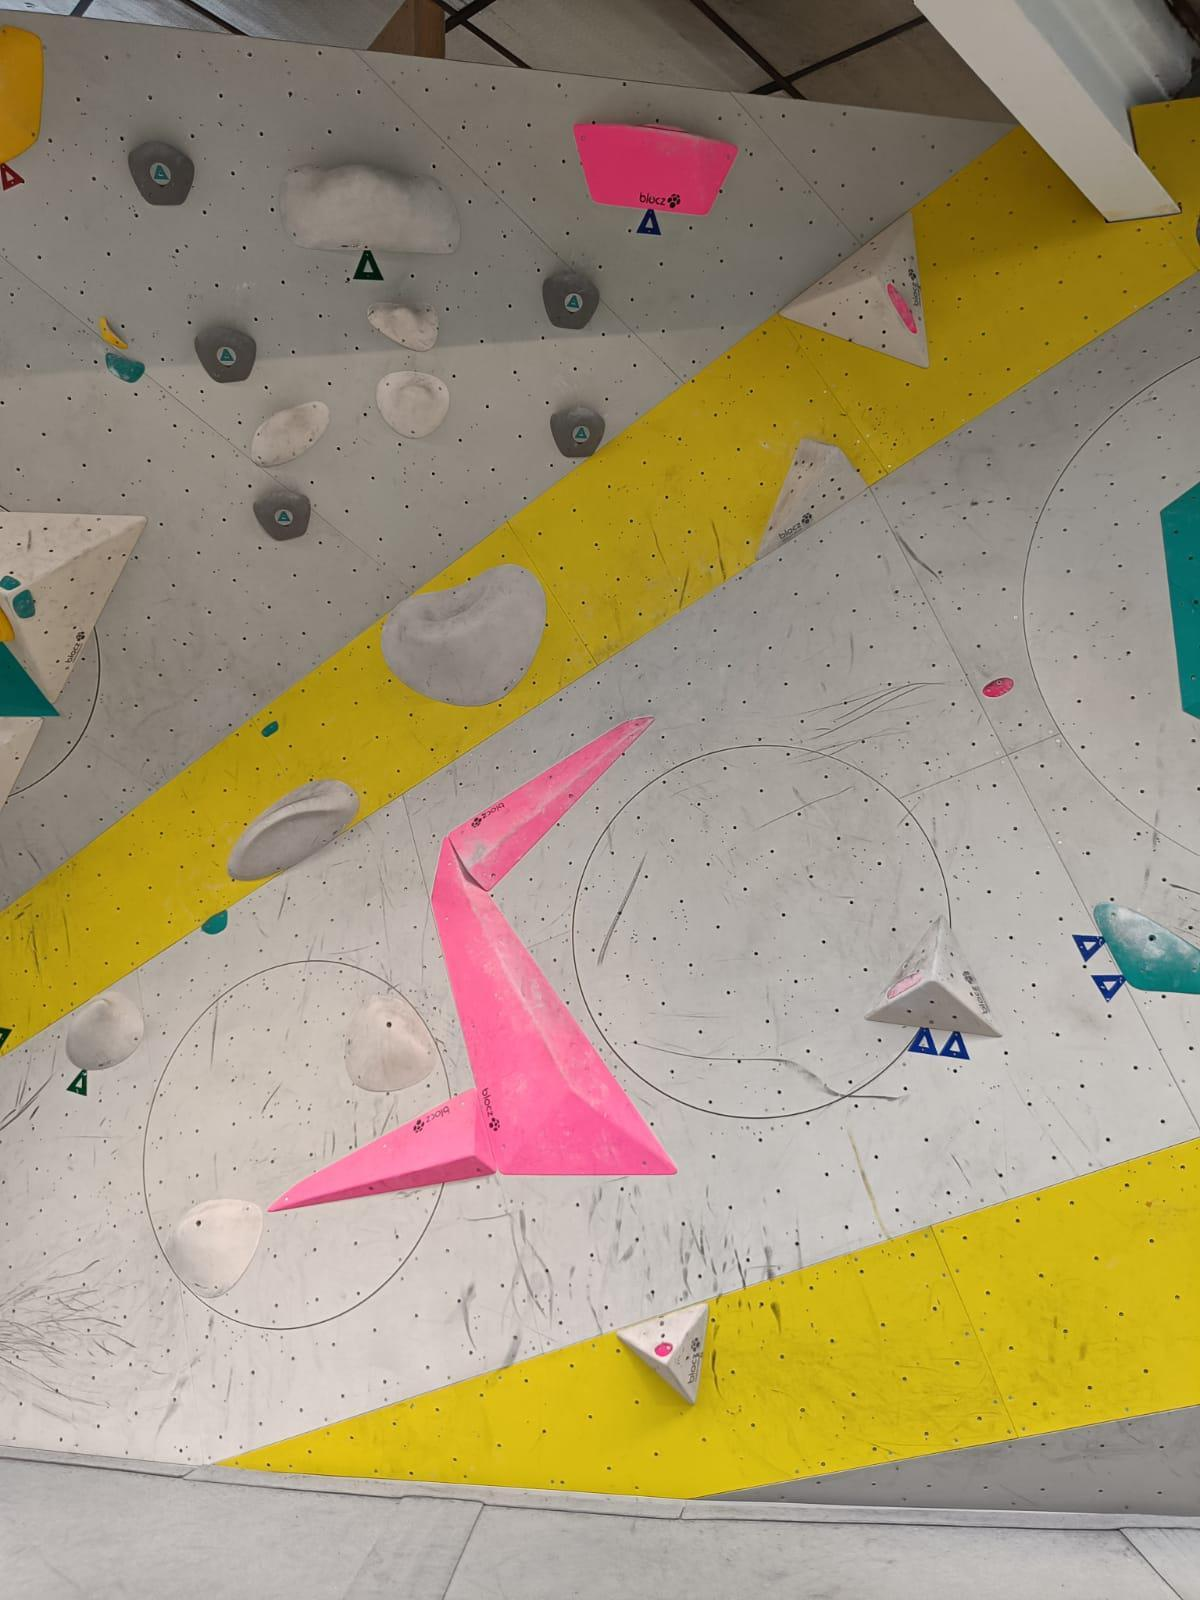hold: (431, 837, 678, 1175), (449, 717, 655, 892), (266, 1089, 497, 1213), (379, 564, 546, 707), (279, 161, 461, 256), (572, 123, 739, 215), (227, 780, 359, 879), (1094, 901, 1200, 995), (163, 1199, 263, 1298), (344, 993, 439, 1092), (66, 991, 145, 1071), (0, 25, 44, 165), (250, 401, 332, 466), (376, 370, 449, 440), (127, 141, 194, 205), (367, 301, 440, 351), (194, 324, 256, 383), (542, 271, 600, 329), (253, 489, 310, 540), (551, 406, 605, 457), (886, 282, 918, 334), (105, 351, 145, 383), (98, 315, 129, 350), (887, 973, 921, 999), (202, 910, 228, 935), (13, 590, 35, 619), (983, 678, 1013, 698), (0, 607, 15, 643), (0, 576, 21, 590), (261, 721, 279, 737), (654, 1342, 673, 1357)
volume: (0, 513, 149, 704), (778, 212, 929, 369), (865, 913, 1003, 1037), (755, 438, 867, 561), (616, 1303, 708, 1405)
